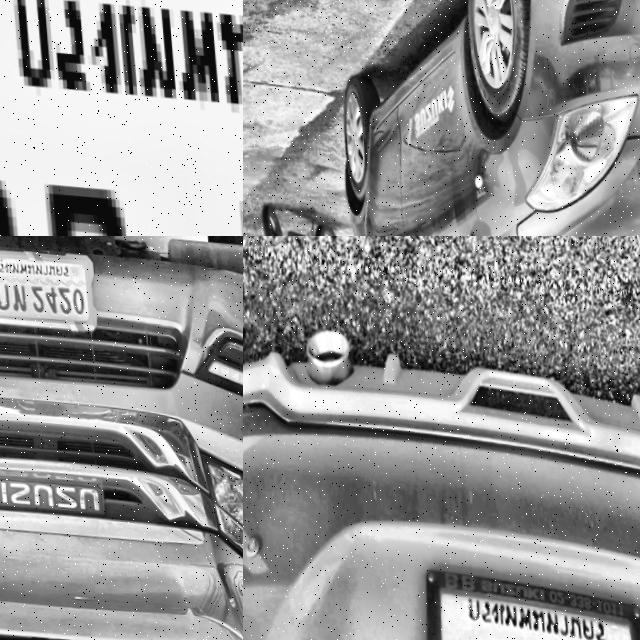license-plate: (0, 0, 243, 236), (404, 552, 640, 640), (0, 236, 97, 329)
